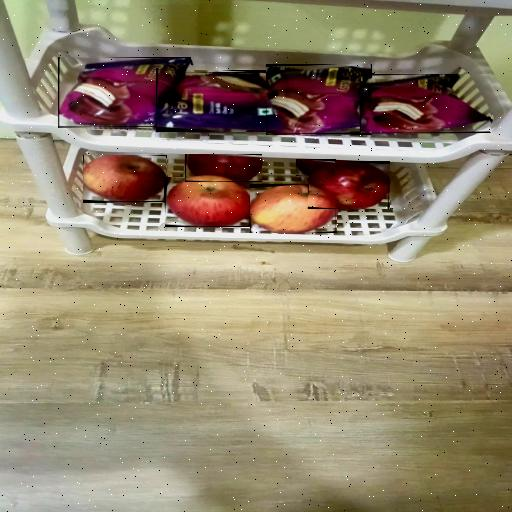Apple: (165, 177, 250, 227), (250, 185, 336, 233), (84, 155, 166, 202), (309, 161, 389, 209), (185, 154, 262, 181), (297, 159, 335, 175)
Choco Pie: (59, 58, 191, 127), (361, 74, 490, 133), (266, 66, 371, 134), (157, 73, 280, 131)
